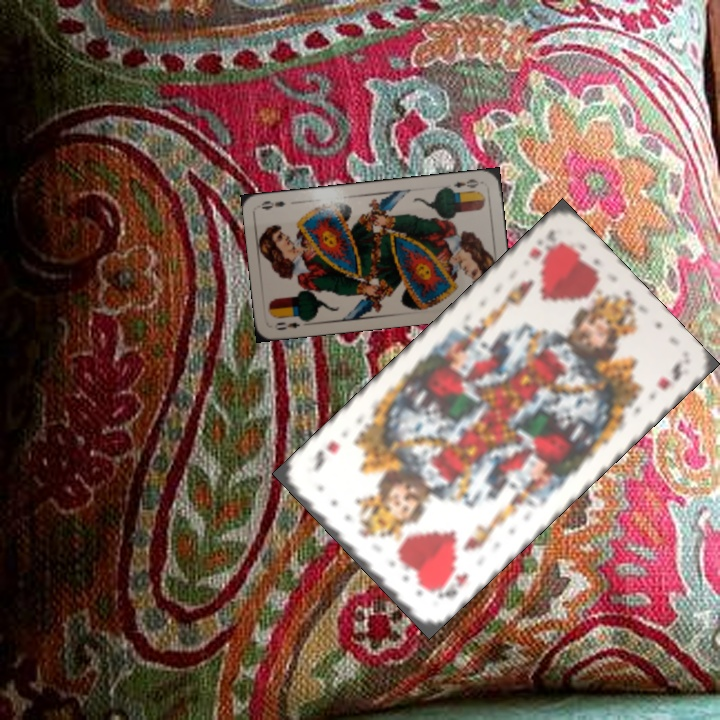EO: (449, 175, 481, 191), (270, 318, 302, 333)
HK: (524, 226, 565, 266), (427, 564, 471, 601)
